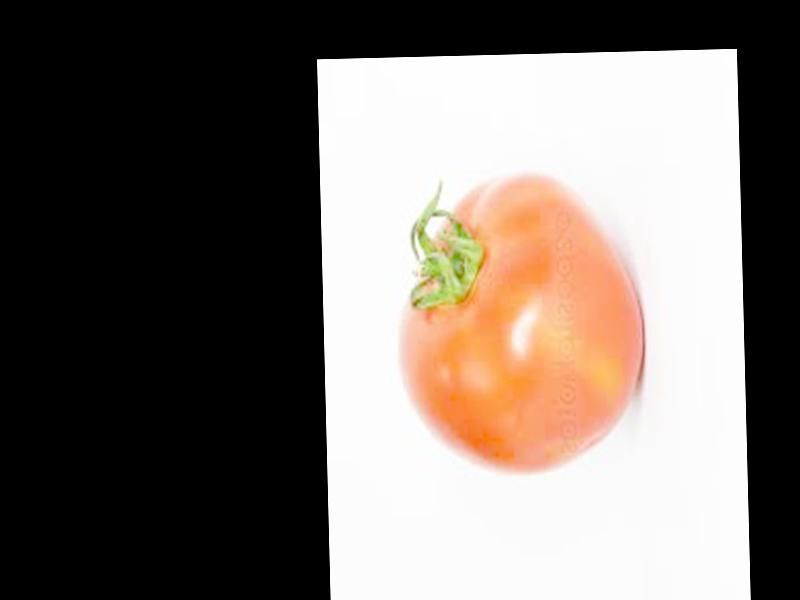Tomato: (390, 171, 646, 476)
